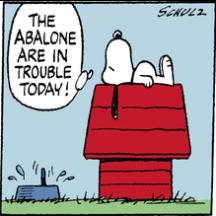snoopy: (101, 29, 175, 119)
